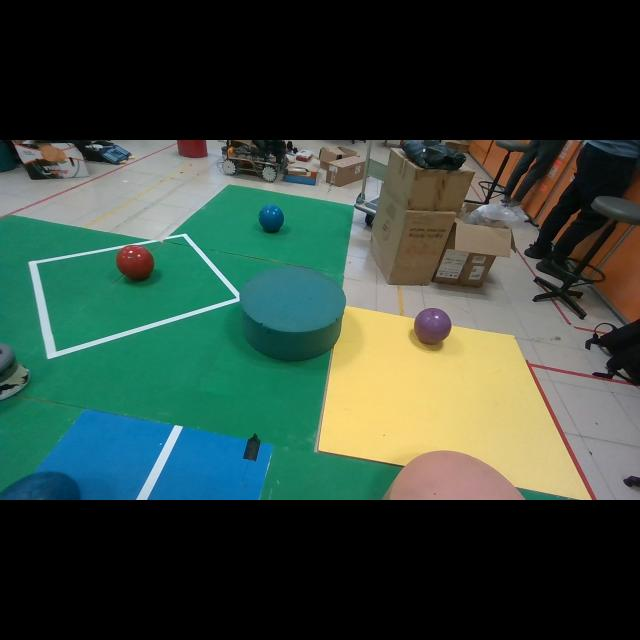B: (259, 205, 284, 232)
P: (414, 309, 451, 344)
R: (116, 245, 155, 279)
